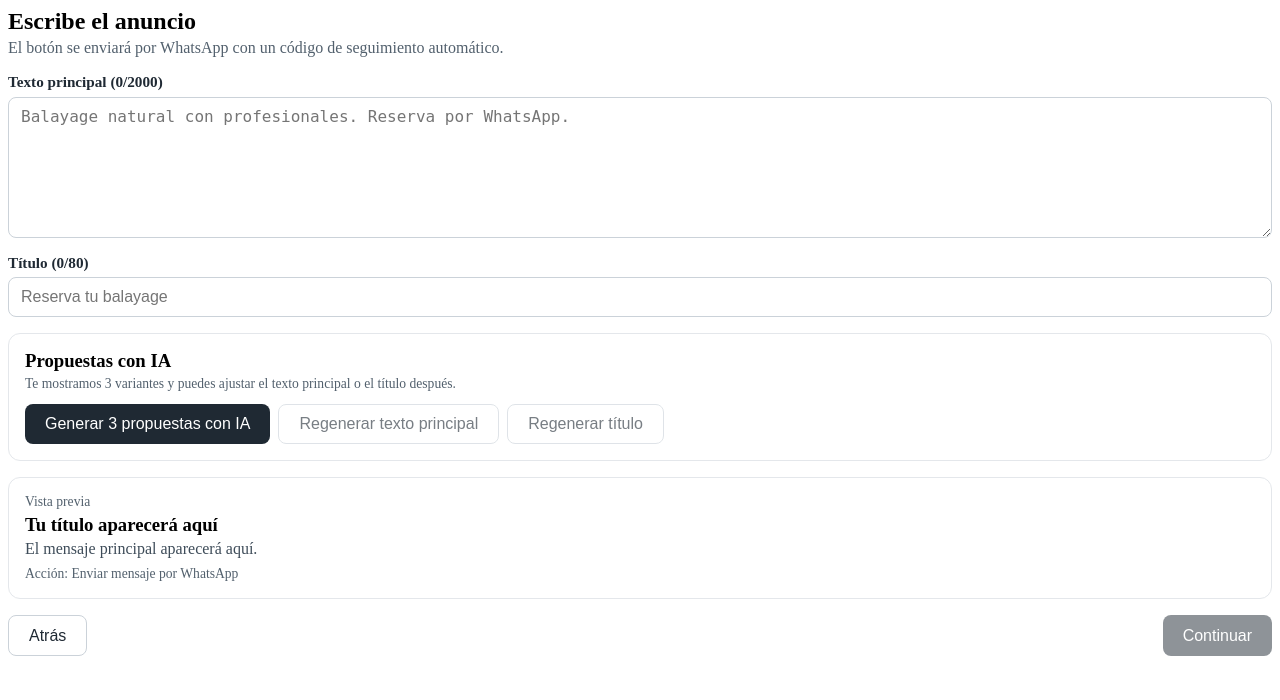
Test case: CopyStep › regenera texto principal y actualiza solo primaryText en el draft
The image size is (1280, 700).
Click the button "Generar 3 propuestas con IA". click: (148,424)
box: [25,404,270,444]
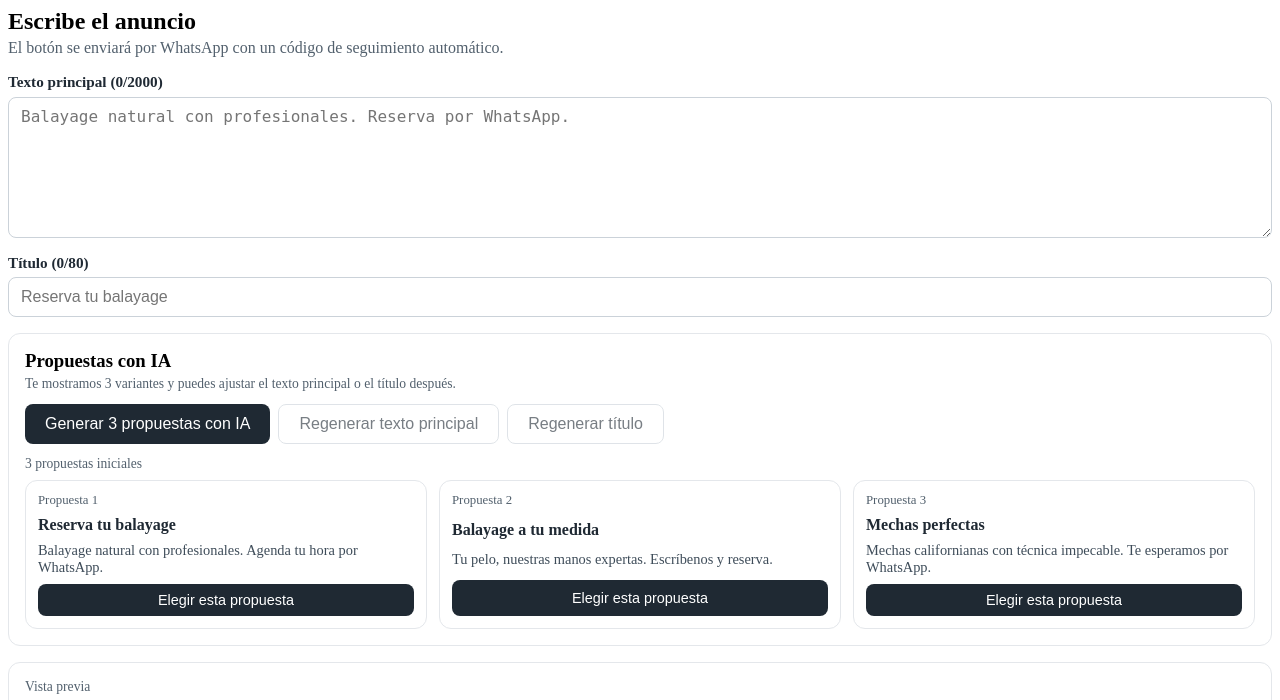
Check: the number of buttons "Elegir esta propuesta" is 3
Click the button "Elegir esta propuesta" below "Reserva tu balayage". click: (226,600)
box: [38,584,414,616]
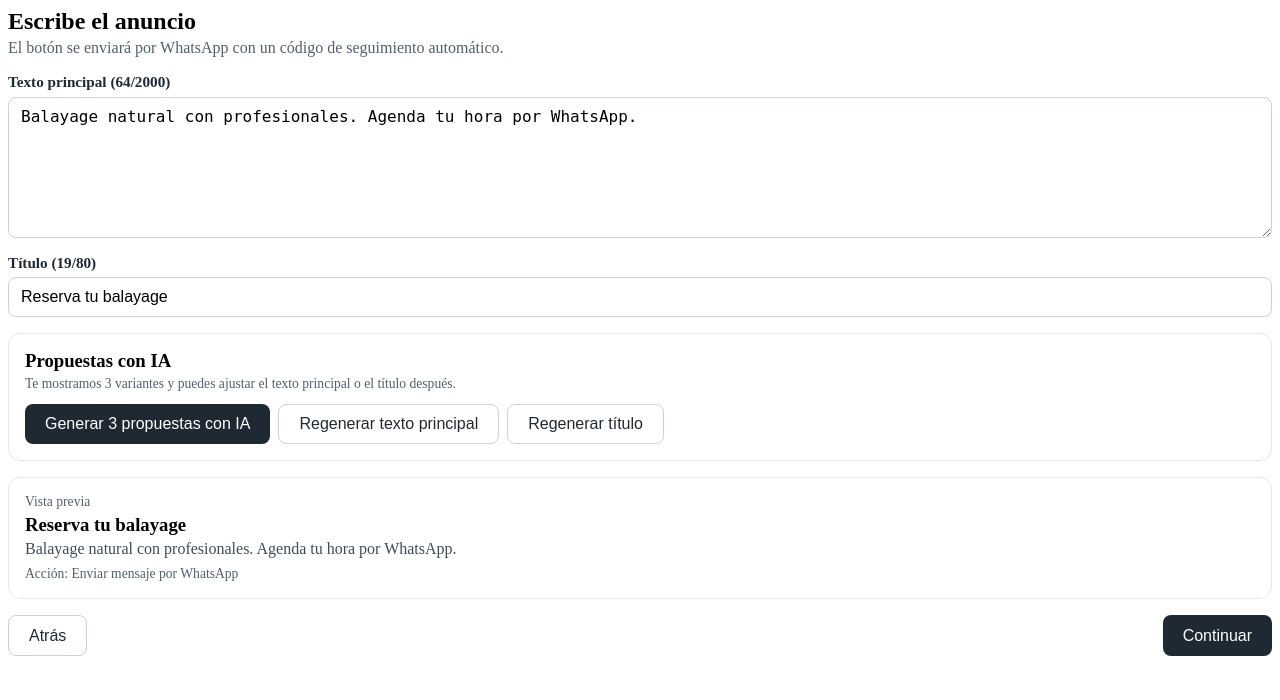
Check: the button "Regenerar texto principal" is enabled
Click the button "Regenerar texto principal". click: (389,424)
box: [278,404,499,444]
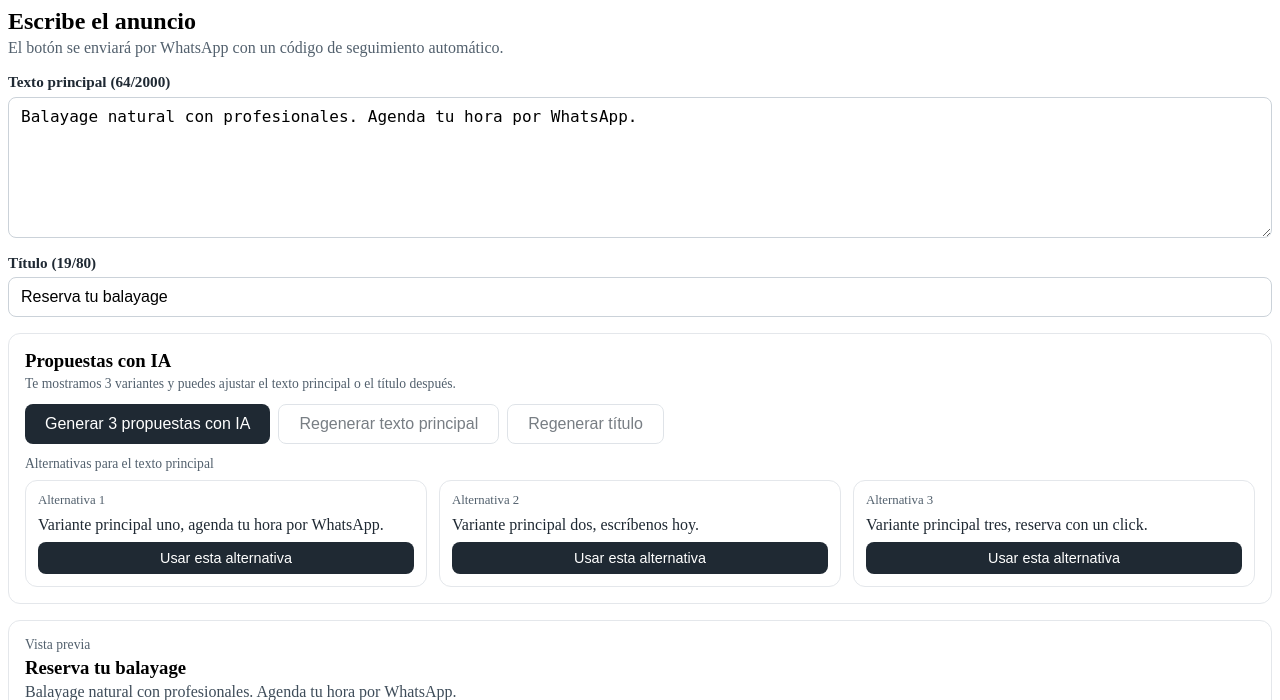
Check: the number of buttons "Usar esta alternativa" is 3
Click the 3rd button "Usar esta alternativa". click: (1054,558)
box: [866,542,1242,574]
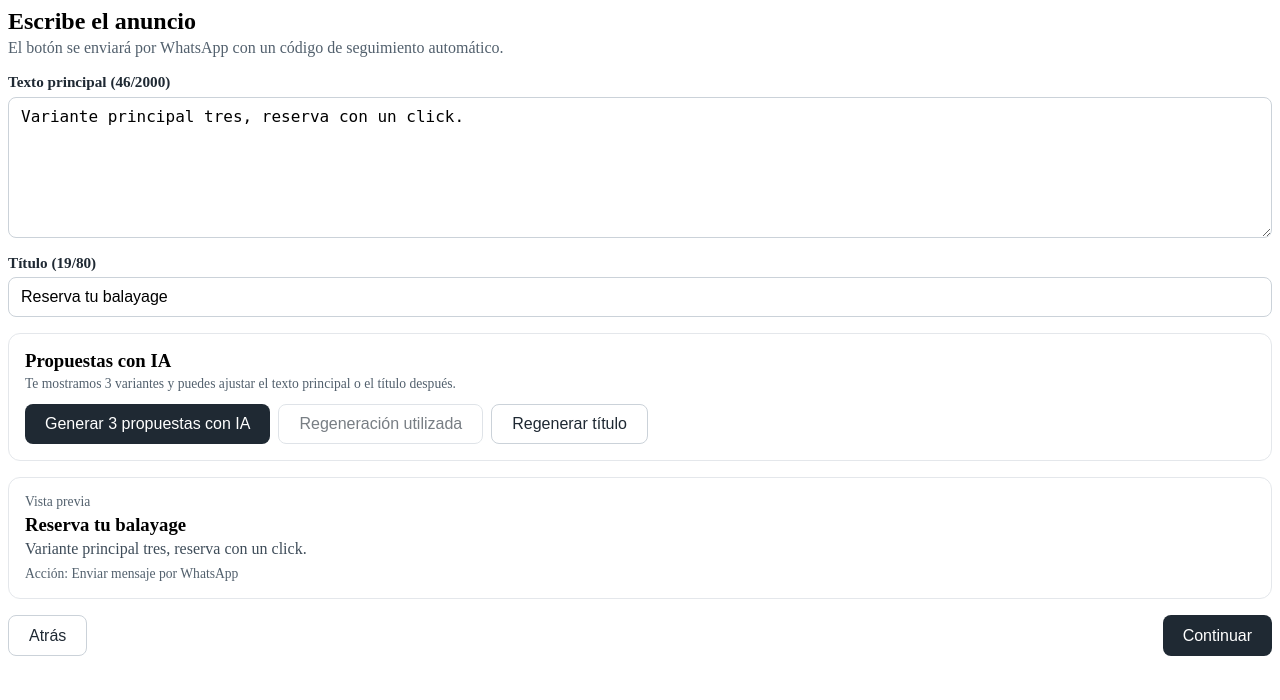
Check: the field showing "Reserva tu balayage" is shown, box [8,277,1272,317]
Check: the text box showing "Variante principal tres, reserva con un click." is shown, box [8,97,1272,238]
